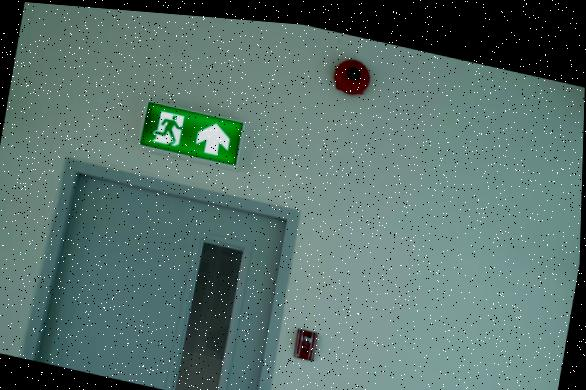emergency_exit: (139, 101, 244, 167)
